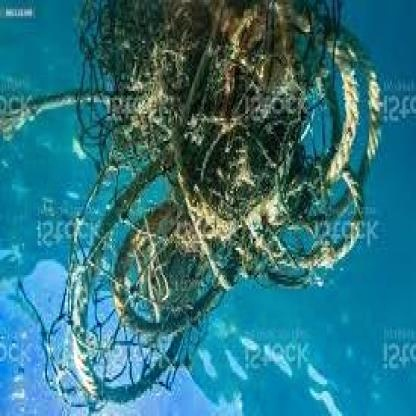net: (65, 2, 381, 407)
